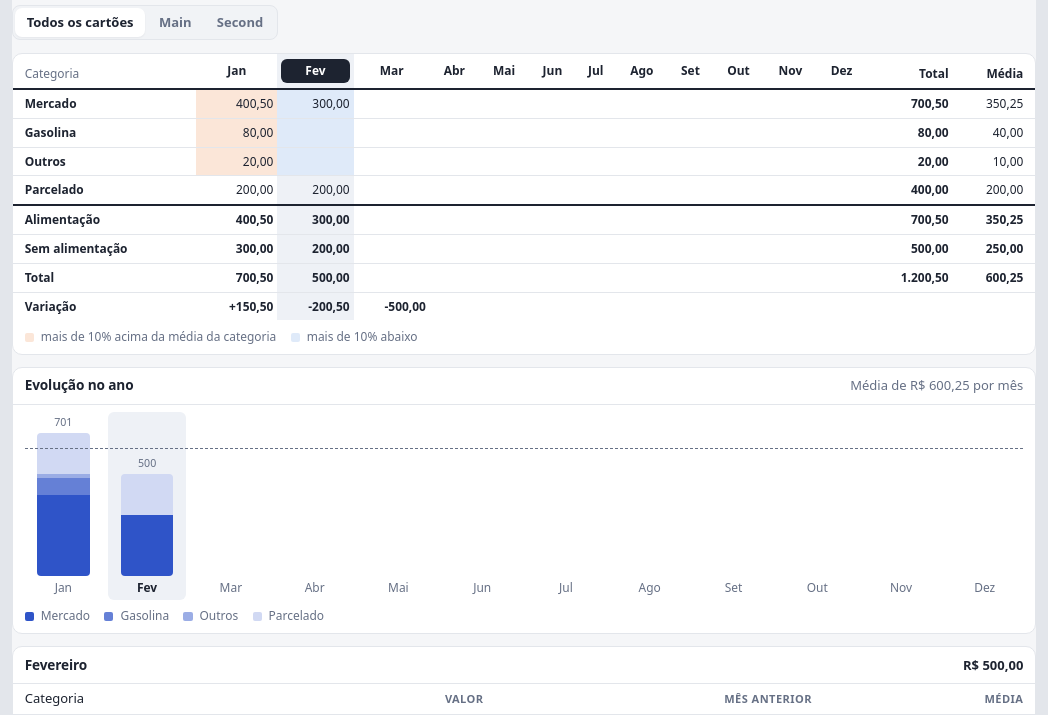
SpendingPage › points out where the month ran over, what weighs the most and where it was light
The image size is (1048, 715).
Click the button "701 Jan" at point(63, 506), box [25,412,102,600]
(page scrolled)
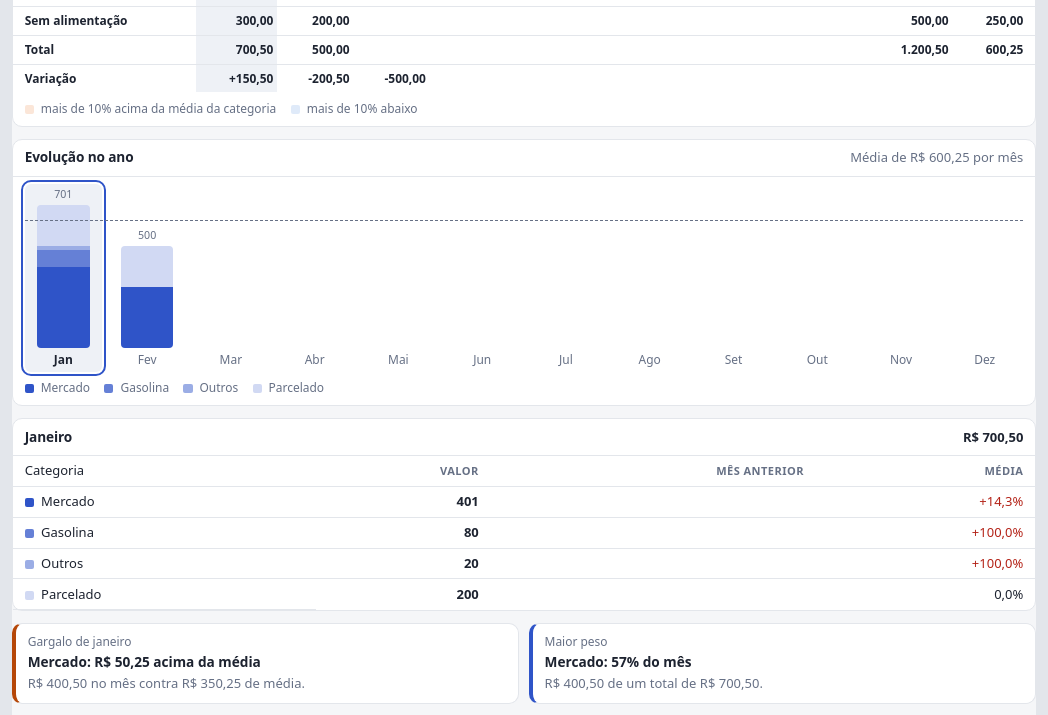
Result: the text "Mercado: R$ 50,25 acima da média" is shown at [28,652,261,671]
Result: the text "Mercado: 57% do mês" is shown at [545,652,692,671]
